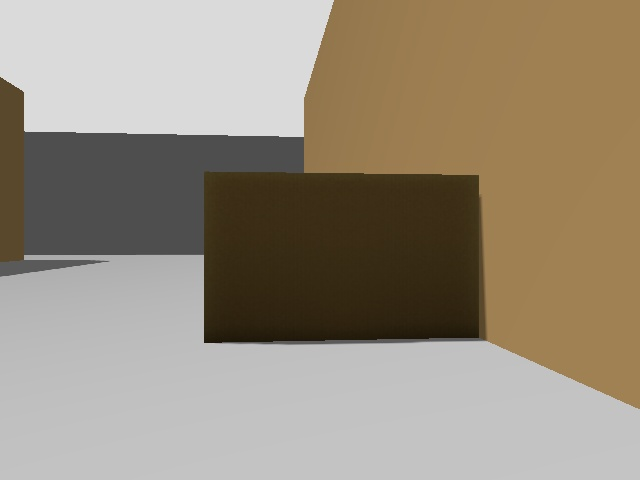package: (205, 175, 483, 333)
